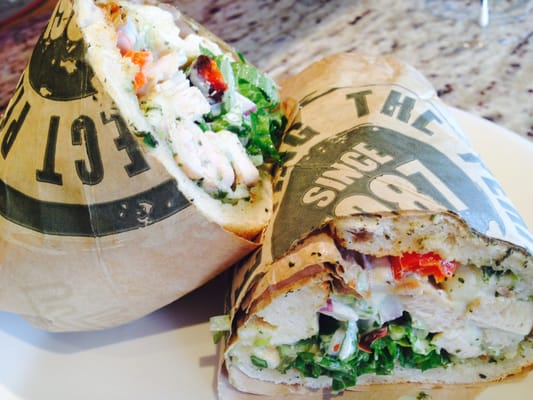soup: (219, 210, 533, 399), (77, 0, 288, 241)
